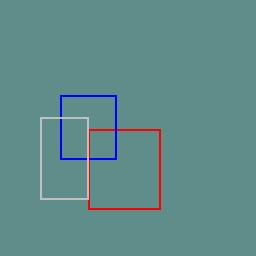Fire: (88, 129, 160, 209)
Person: (60, 95, 116, 160)
Smoke: (40, 117, 88, 200)
